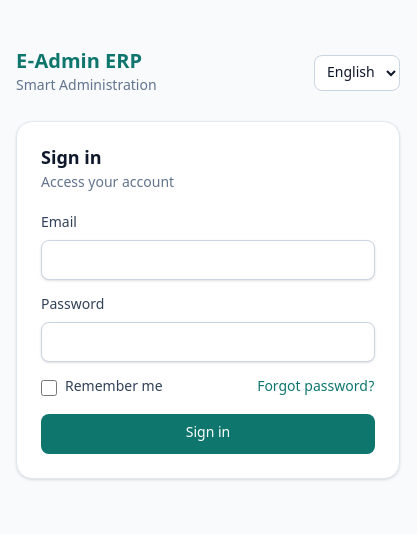
Test: login flow › explains rate limiting
In the field labelled "Email": (208, 260) left=41, top=240, right=375, bottom=280, type "admin@example.com"
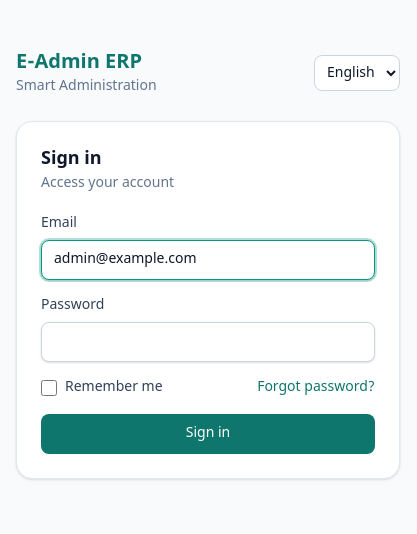
In the password field labelled "Password": (208, 342) left=41, top=322, right=375, bottom=362, type "x"
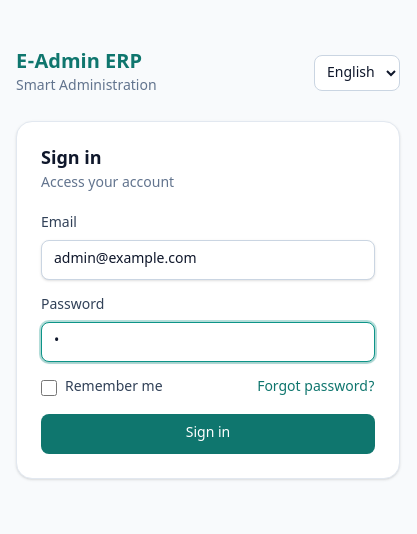
Click the button "Sign in": (208, 434) left=41, top=414, right=375, bottom=454
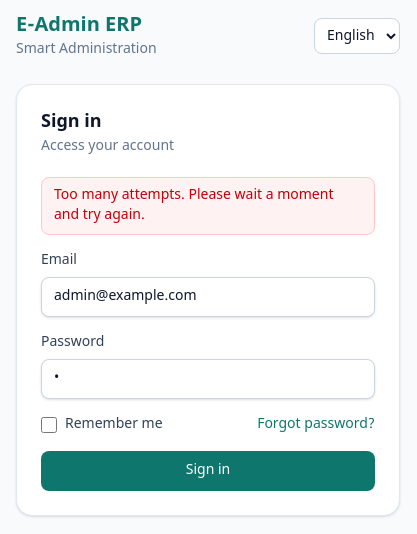
Expected: the message shows "Too many attempts", left=54, top=186, right=334, bottom=225
